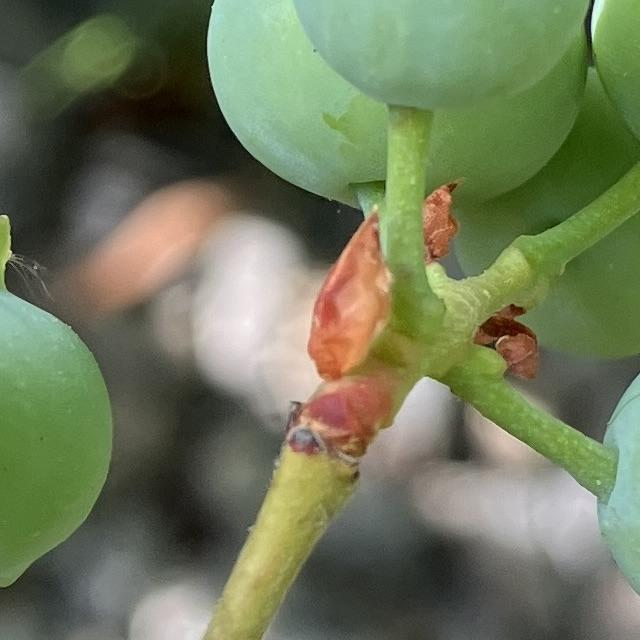Blueberries: (281, 0, 591, 113)
